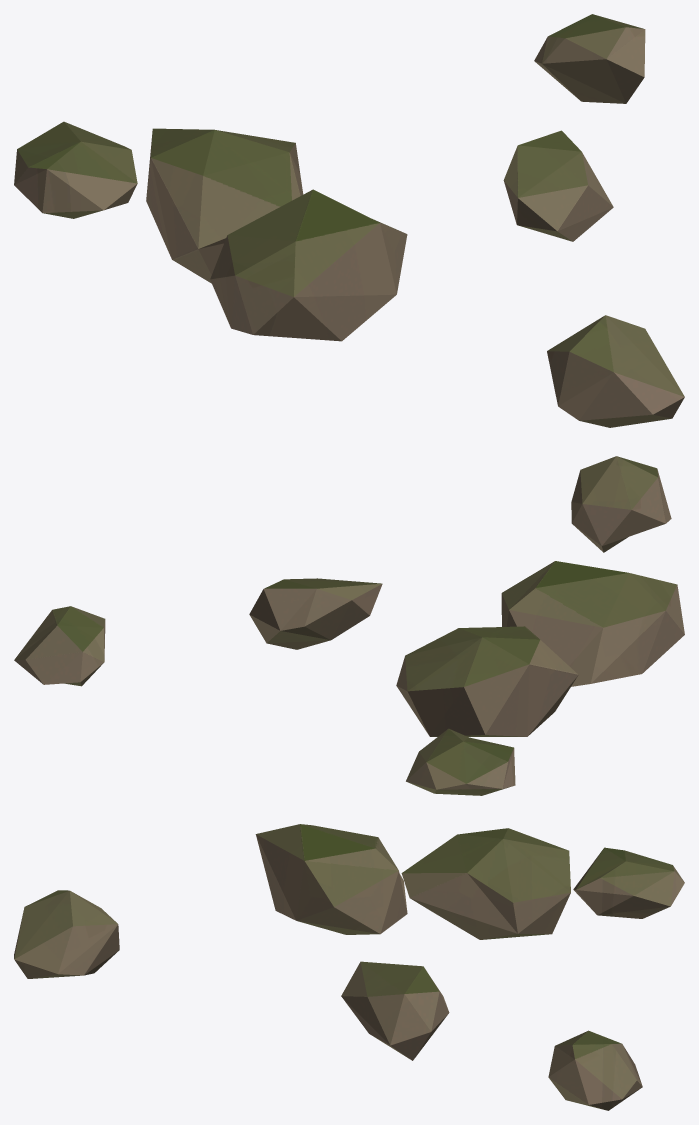
File: SM_Env_Rock_Small_Pile_01.glb
The picture shows the model from 3 angles, top to bottom: view 1: azimuth 30°, elevation 25°; view 2: azimuth 150°, elevation 25°; view 3: azimuth 270°, elevation 25°; orthographic projection. The views are drawn at different scales.
Visible parts, largest first — view 1: SM_Env_Rock_Small_Pile_01; view 2: SM_Env_Rock_Small_Pile_01; view 3: SM_Env_Rock_Small_Pile_01.
Part boxes in pixels (x1,y1,x2,y2): SM_Env_Rock_Small_Pile_01: (14,14,684,427); SM_Env_Rock_Small_Pile_01: (14,456,684,795); SM_Env_Rock_Small_Pile_01: (14,824,684,1110).
Bounding box in the file's own units: 0.8988 × 0.1867 × 1.1.
Materials: 1 (1 with a texture image).
